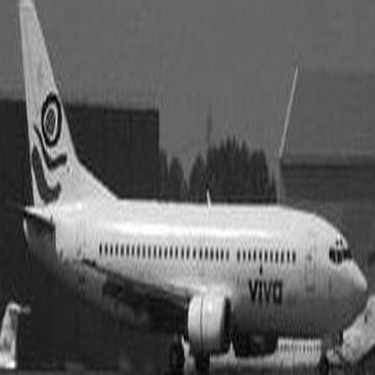airplane: (7, 4, 371, 371)
